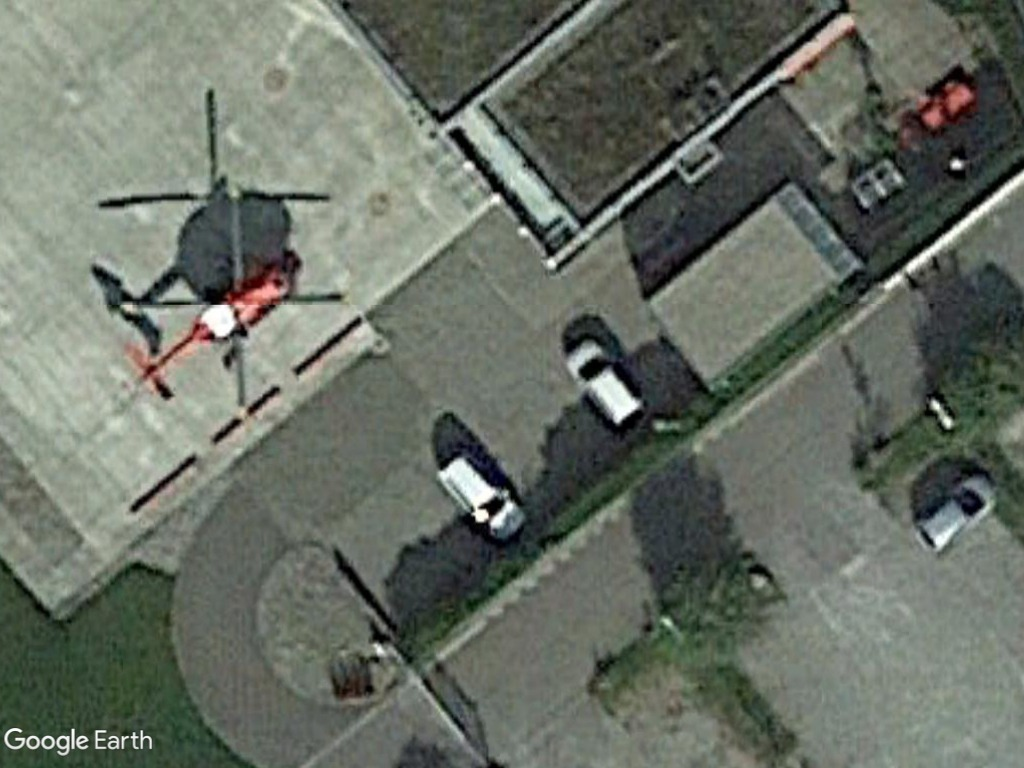car: (432, 447, 530, 547), (559, 335, 648, 435), (912, 471, 1000, 558)
helicopter: (103, 180, 354, 422)
